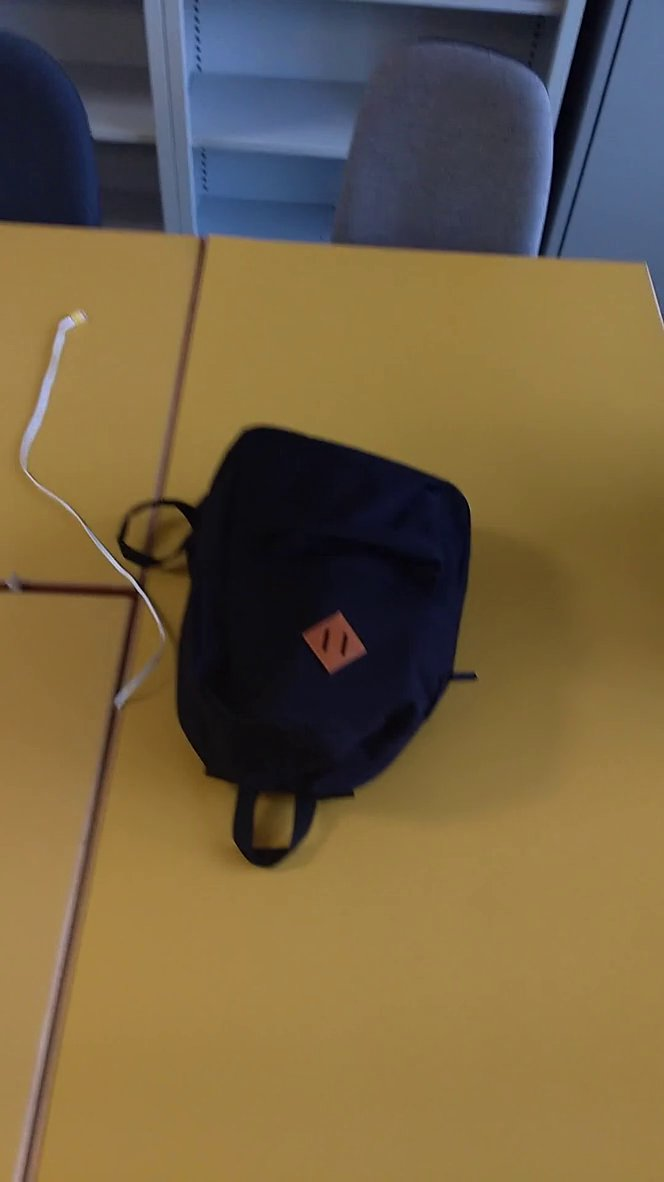bag: (115, 418, 497, 875)
chair: (318, 30, 562, 300)
